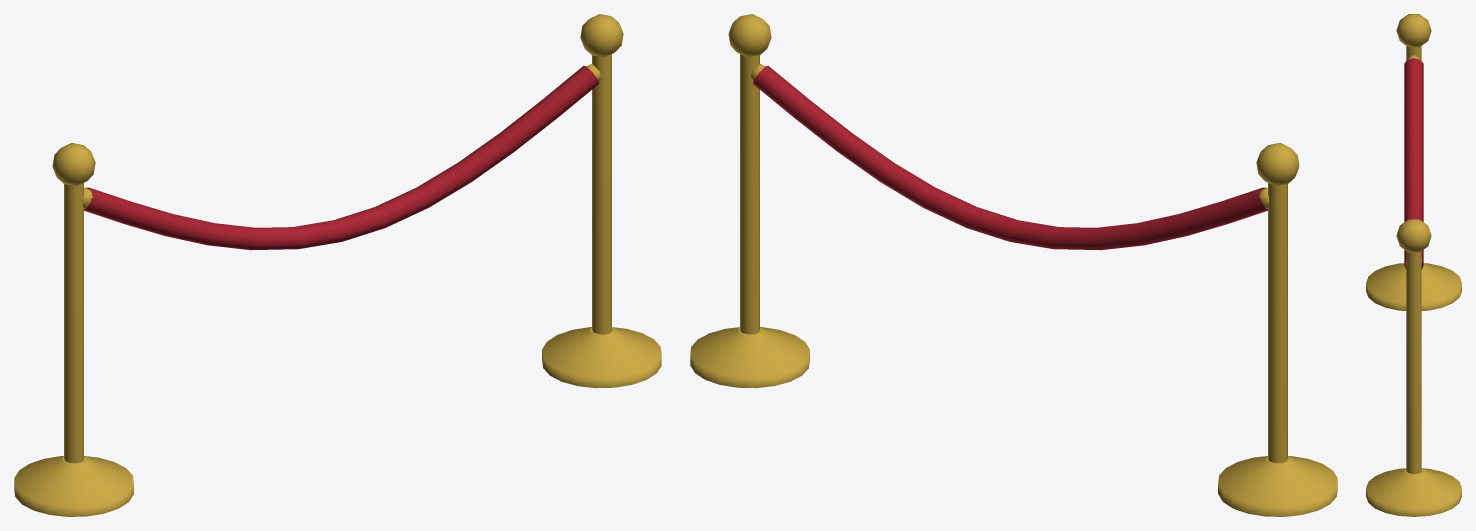
File: furn_velvet_rope.glb
3 views of the same model, side by side, from view 1: azimuth 30°, elevation 25°; view 2: azimuth 150°, elevation 25°; view 3: azimuth 270°, elevation 25° (orthographic). The views are drawn at different scales.
Parts seen in each view (by area): view 1: furn_velvet_rope_main; view 2: furn_velvet_rope_main; view 3: furn_velvet_rope_main.
Part boxes in pixels (bbox=[...]): furn_velvet_rope_main: bbox=[14, 14, 661, 516]; furn_velvet_rope_main: bbox=[690, 14, 1337, 516]; furn_velvet_rope_main: bbox=[1366, 14, 1461, 516].
Size of the model in its own units: 1.82 by 0.955 by 0.3.
